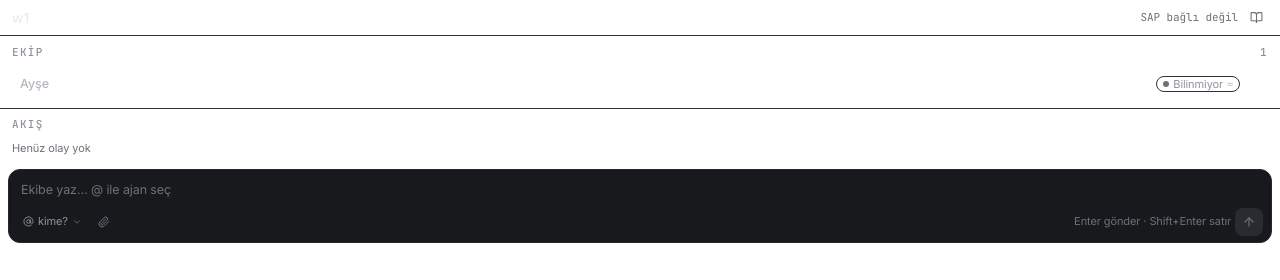
Scenario: Akış — mesaj kutusu › ajan seçilmeden Enter: 'Bir ajan seç (@)', hiçbir şey gönderilmiyor
This screenshot has width=1280, height=280.
Type "derle" into the dropdown named "Ajana mesaj" at [640, 190], box x1=17 y1=174 x2=1263 y2=208
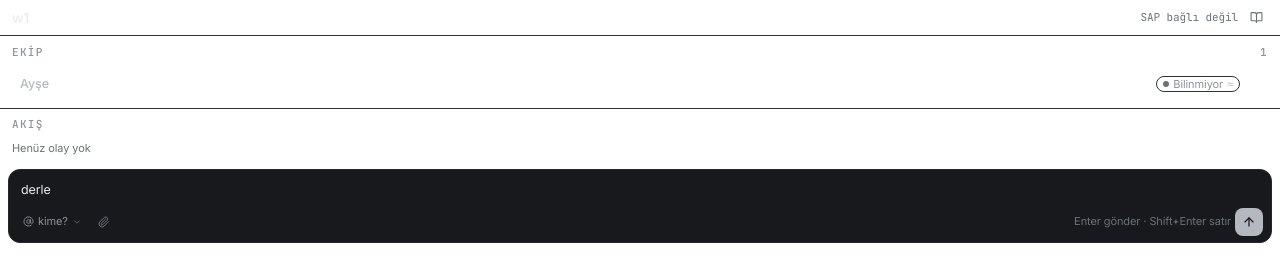
Press Enter in the dropdown named "Ajana mesaj", box x1=17 y1=174 x2=1263 y2=208
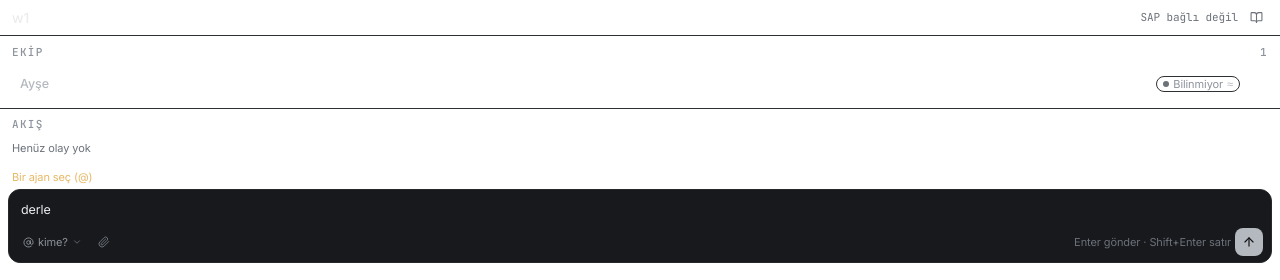
Expected: the message reads "Bir ajan seç (@)", x1=12 y1=170 x2=92 y2=184
